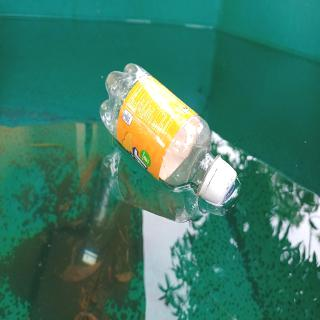bottle: (97, 60, 239, 207)
